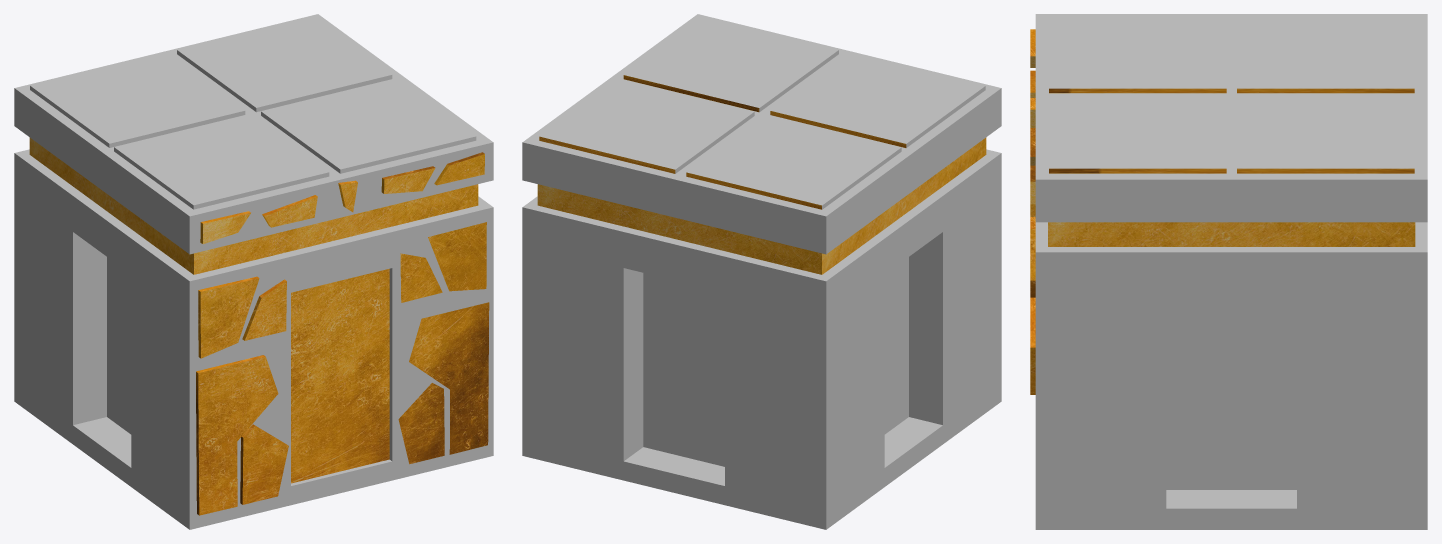
File: bloc1x1_front.FBX
The picture shows the model from 3 angles, left to right: view 1: azimuth 30°, elevation 25°; view 2: azimuth 150°, elevation 25°; view 3: azimuth 270°, elevation 25°; orthographic projection. The views are drawn at different scales.
Visible parts, largest first — view 1: bloc1x1_01; view 2: bloc1x1_01; view 3: bloc1x1_01.
Part boxes in pixels (x1,y1,x2,y2): bloc1x1_01: [14, 14, 493, 529]; bloc1x1_01: [522, 14, 1001, 529]; bloc1x1_01: [1030, 14, 1427, 529].
Bounding box in the file's own units: 39.37 × 39.37 × 39.9.
